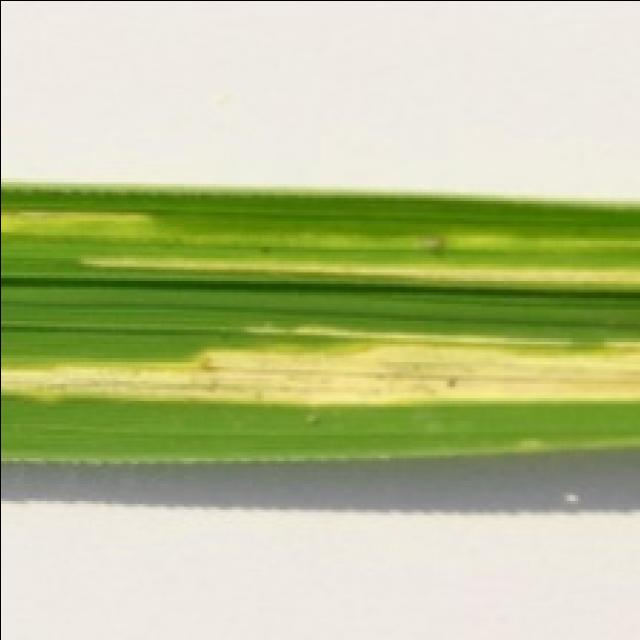Unhealthy: (0, 319, 640, 403), (76, 256, 640, 289), (156, 233, 640, 255), (0, 207, 156, 237)
